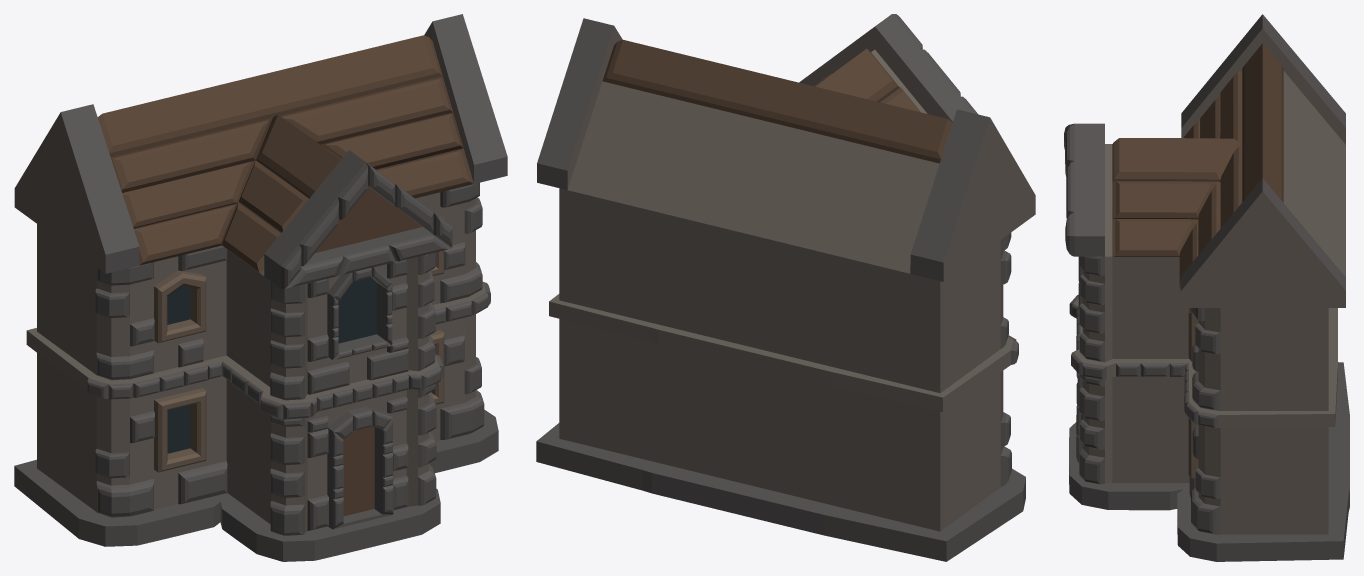
File: StoneHouseBig.fbx
3 views of the same model, side by side, from view 1: azimuth 30°, elevation 25°; view 2: azimuth 150°, elevation 25°; view 3: azimuth 270°, elevation 25° (orthographic). The views are drawn at different scales.
Parts seen in each view (by area): view 1: Cube; view 2: Cube; view 3: Cube.
Part boxes in pixels (x1,y1,x2,y2): Cube: [14, 14, 507, 561]; Cube: [536, 14, 1035, 561]; Cube: [1064, 14, 1349, 561].
Size of the model in its own units: 40.14 by 37.42 by 26.37.
